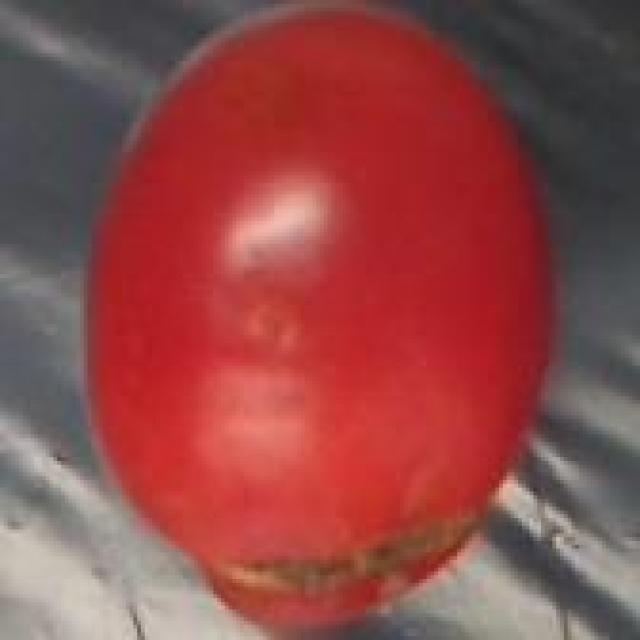overripe tomato: (76, 4, 568, 640)
